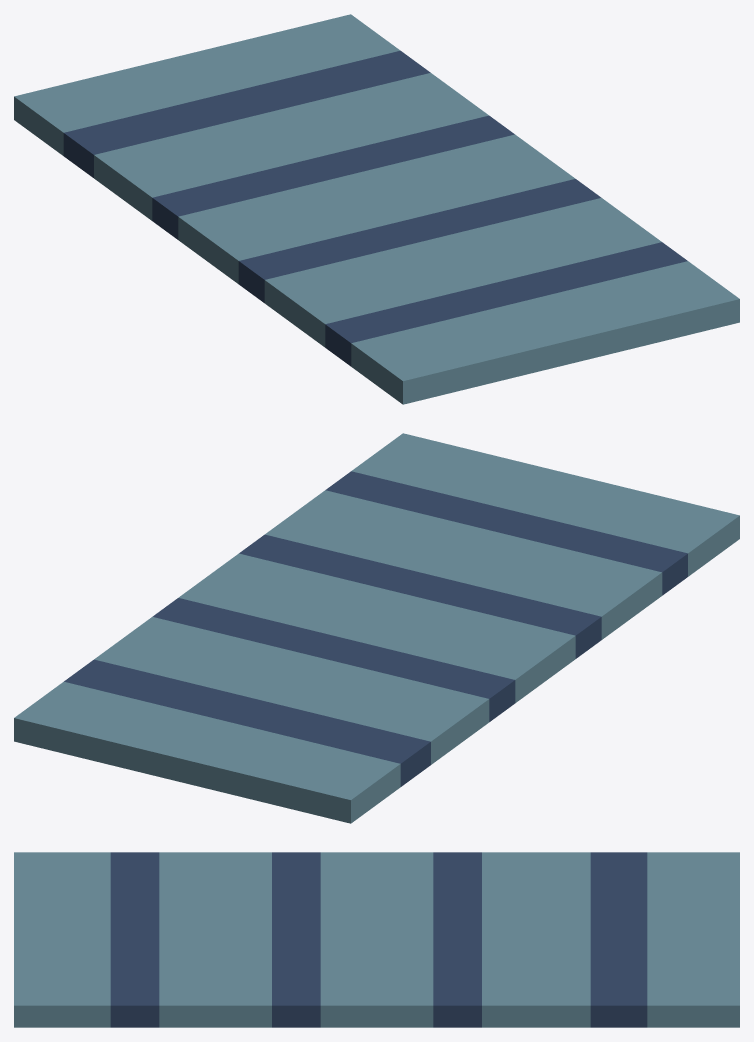
The model's file is Towel_Blue_01.fbx.
3 views of the same model, one above another, from view 1: azimuth 30°, elevation 25°; view 2: azimuth 150°, elevation 25°; view 3: azimuth 270°, elevation 25° (orthographic). The views are drawn at different scales.
Visible parts, largest first — view 1: Towel_Blue_01; view 2: Towel_Blue_01; view 3: Towel_Blue_01.
Part boxes in pixels (bbox=[...]): Towel_Blue_01: bbox=[14, 14, 739, 404]; Towel_Blue_01: bbox=[14, 433, 739, 823]; Towel_Blue_01: bbox=[14, 852, 739, 1027].
Size of the model in its own units: 3 by 0.2 by 6.
